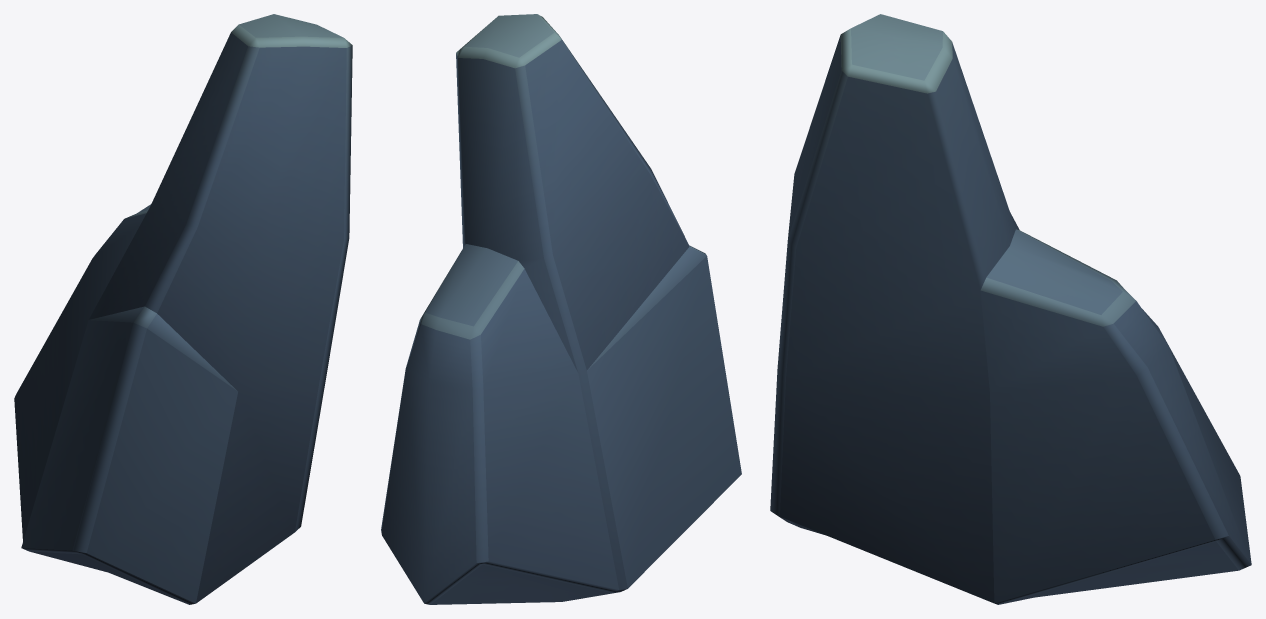
Rendered from rock_027.fbx.
3 renders of one model, left to right at view 1: azimuth 30°, elevation 25°; view 2: azimuth 150°, elevation 25°; view 3: azimuth 270°, elevation 25°, orthographic. The views are drawn at different scales.
Visible parts, largest first — view 1: rock_027; view 2: rock_027; view 3: rock_027.
Boxes of the visible parts, x1=… form: rock_027: x1=14, y1=14, x2=352, y2=604; rock_027: x1=381, y1=14, x2=741, y2=604; rock_027: x1=770, y1=14, x2=1251, y2=604.
Bounding box in the file's own units: 375 × 715 × 496.
1 material, 1 textured.
